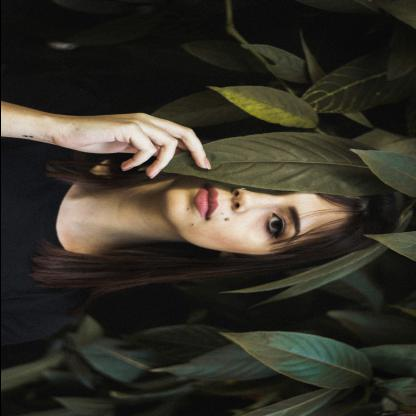Eye: (262, 211, 294, 242)
Mouth: (190, 178, 224, 224)
Nose: (226, 188, 278, 211)
